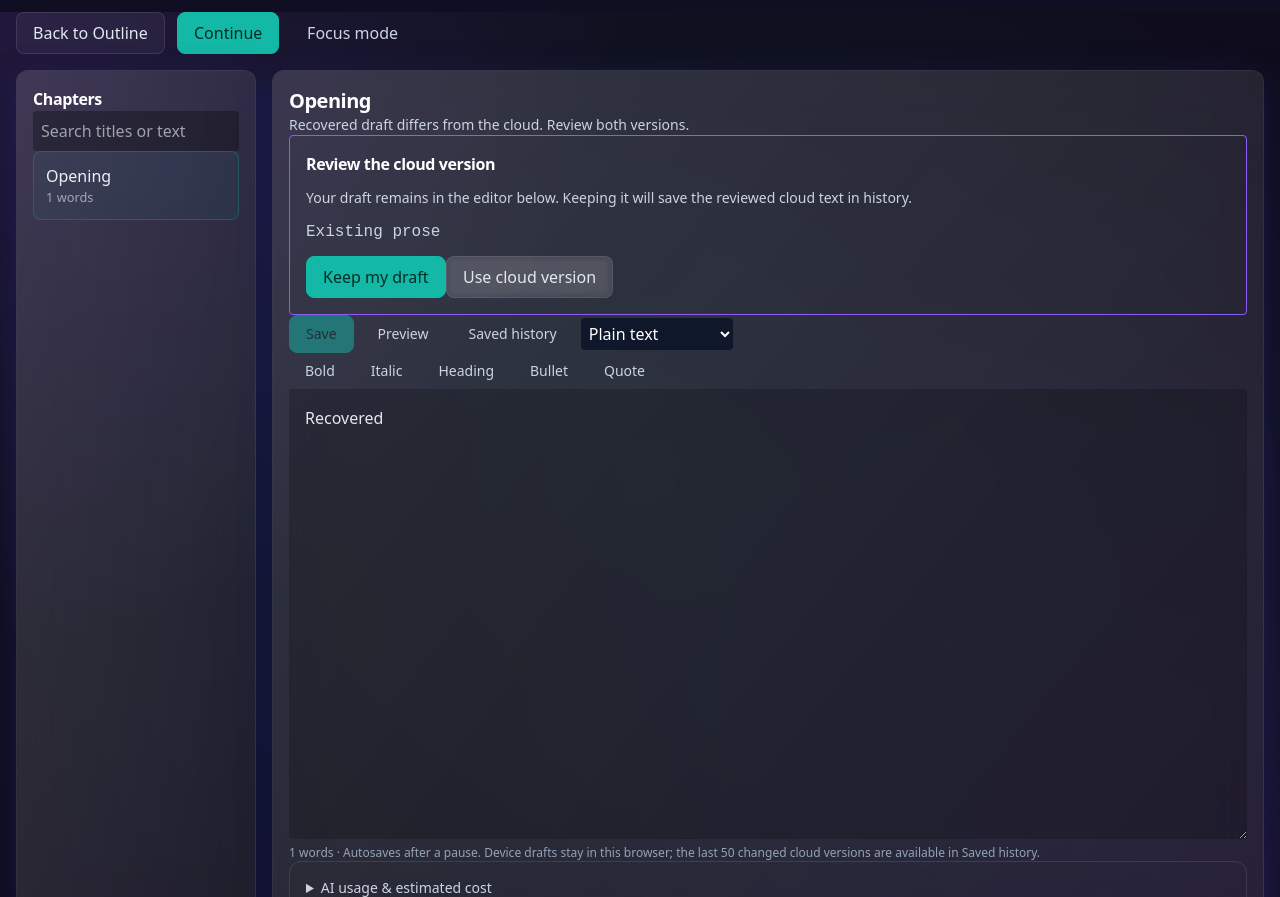
pauses a recovered stale draft for explicit conflict review
Expected: the heading "Review the cloud version" is shown, [306,153,495,175]
Step 1. Click the button "Use cloud version" → point(529, 277), box [446,256,613,298]
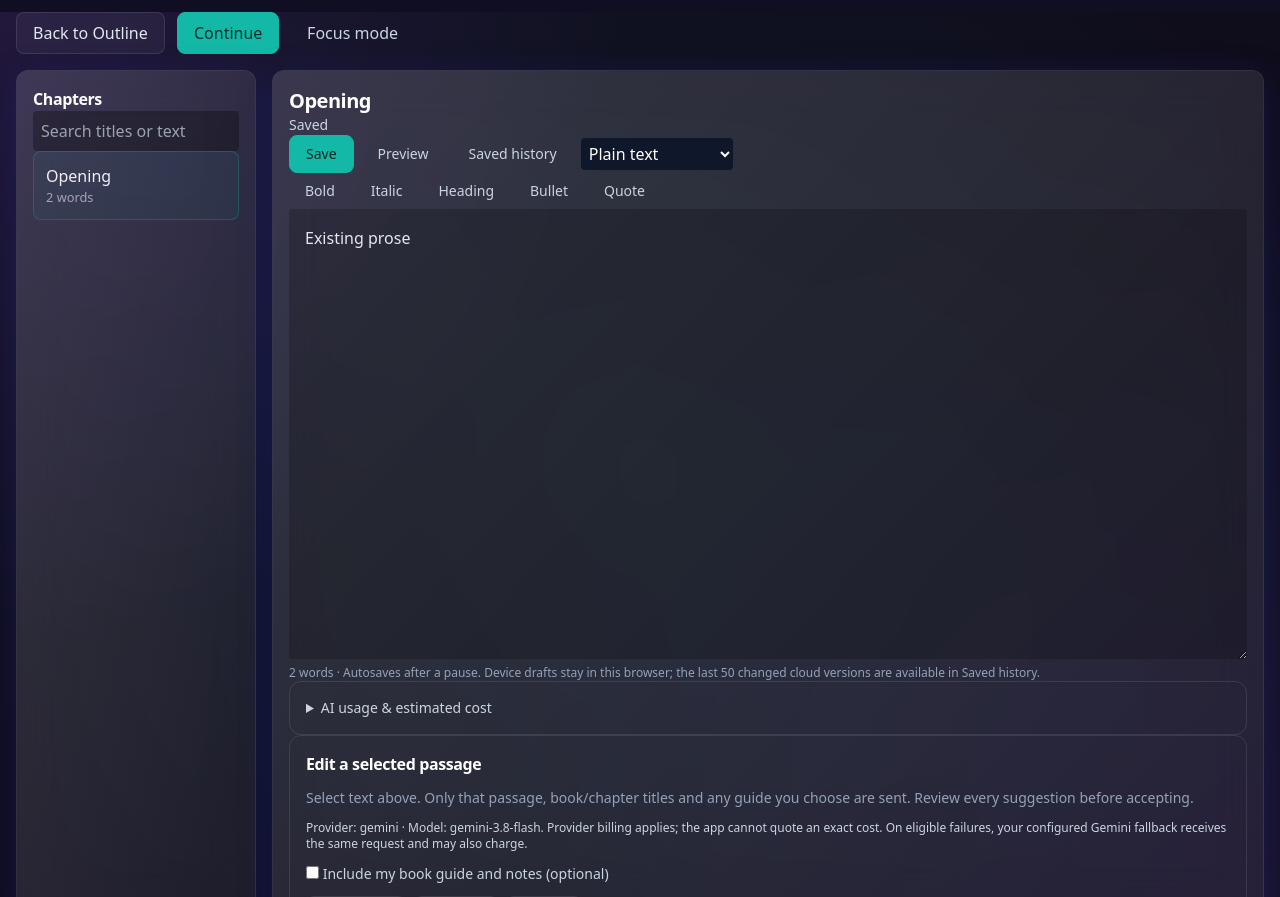
Expected: the text box named "Chapter content" holds "Existing prose", [289,209,1247,659]
